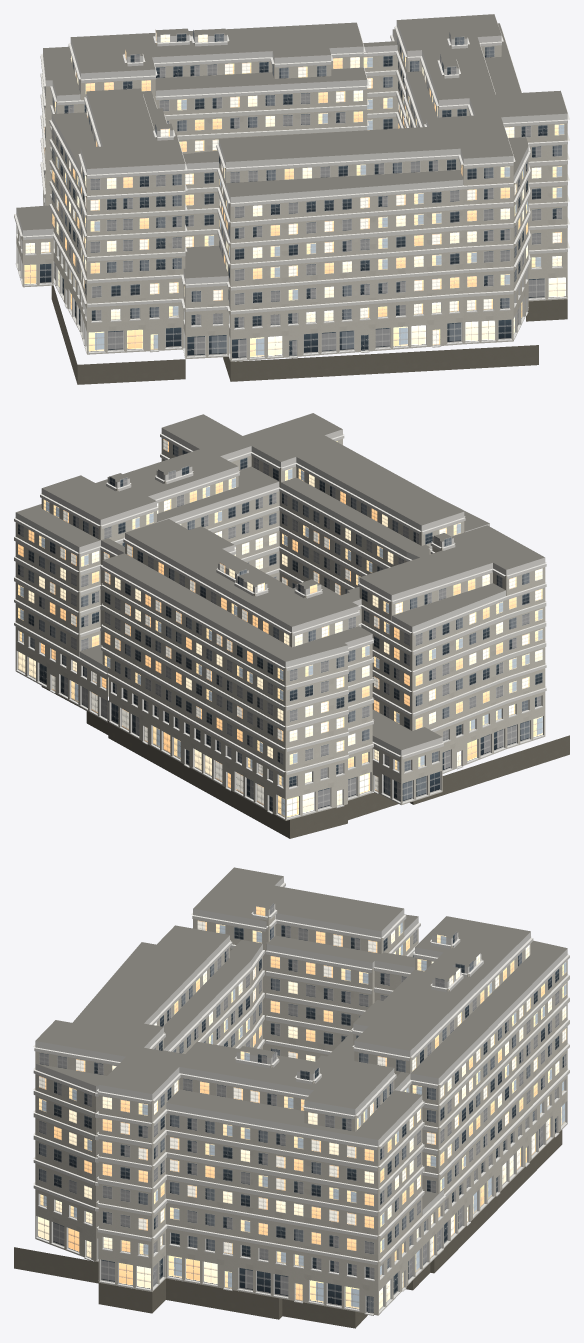
Rendered from z5b_flur_block.glb.
The picture shows the model from 3 angles, top to bottom: view 1: azimuth 30°, elevation 25°; view 2: azimuth 150°, elevation 25°; view 3: azimuth 270°, elevation 25°; orthographic projection. The views are drawn at different scales.
Visible parts, largest first — view 1: z5b_flur_block; view 2: z5b_flur_block; view 3: z5b_flur_block.
Part boxes in pixels (bbox=[...]): z5b_flur_block: bbox=[14, 14, 569, 384]; z5b_flur_block: bbox=[14, 413, 569, 838]; z5b_flur_block: bbox=[14, 867, 569, 1328].
Size of the model in its own units: 78.26 by 32.42 by 70.65.
Materials: 3 (3 with a texture image).
